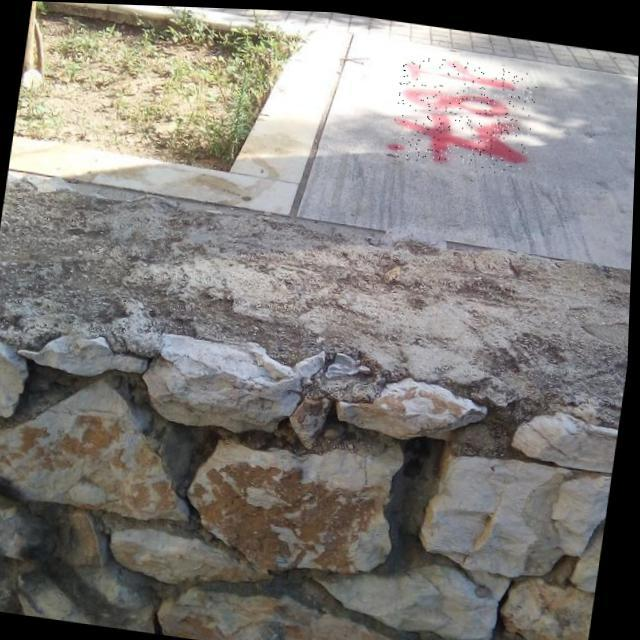-: (389, 49, 538, 172)
